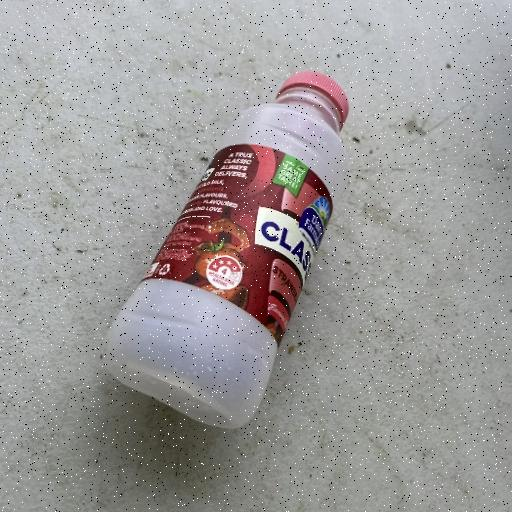Plastic: (98, 68, 352, 430)
